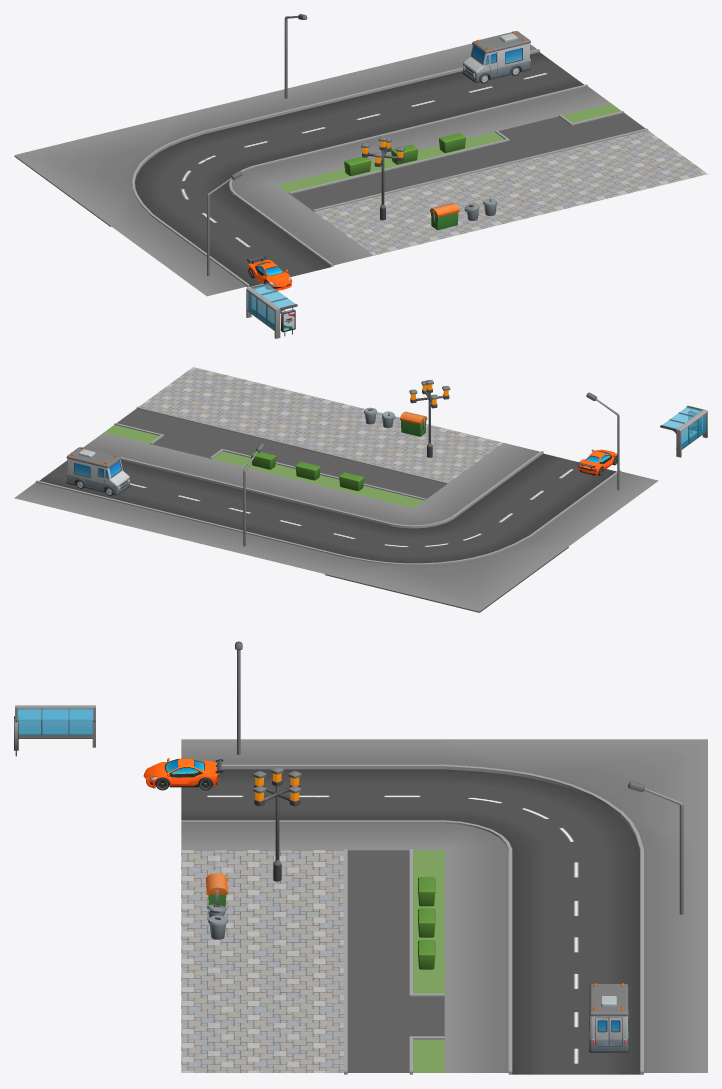
The model's file is south-west.gltf.
3 renders of one model, top to bottom at view 1: azimuth 30°, elevation 25°; view 2: azimuth 150°, elevation 25°; view 3: azimuth 270°, elevation 25°, orthographic. The views are drawn at different scales.
Parts seen in each view (by area): view 1: road_013.018, Set_B_Tiles_04.025, road_009.239, road_009.238, Set_B_Tiles_05.010, road_009.240, Van.004, Bus_Stop_02.052, Spotlight_02.111, Car_13.003, Trash_Can_05.036; view 2: road_013.018, road_009.239, road_009.238, Set_B_Tiles_04.025, Set_B_Tiles_05.010, road_009.240, Van.004, Bus_Stop_02.052, Spotlight_02.111, Car_13.003, Trash_Can_05.036; view 3: Set_B_Tiles_04.025, road_009.239, road_013.018, road_009.238, Set_B_Tiles_05.010, road_009.240, Bus_Stop_02.052, Van.004, Car_13.003, Spotlight_02.111, Spotlight_01.106.
Boxes of the visible parts, bbox=[...] form: road_013.018: bbox=[14, 114, 276, 226]; Set_B_Tiles_04.025: bbox=[454, 103, 707, 214]; road_009.239: bbox=[181, 74, 439, 184]; road_009.238: bbox=[110, 185, 373, 296]; Set_B_Tiles_05.010: bbox=[278, 145, 540, 255]; road_009.240: bbox=[348, 43, 611, 139]; Van.004: bbox=[462, 31, 530, 82]; Bus_Stop_02.052: bbox=[246, 283, 297, 338]; Spotlight_02.111: bbox=[361, 136, 404, 220]; Car_13.003: bbox=[248, 259, 292, 290]; Trash_Can_05.036: bbox=[430, 203, 459, 230]; road_013.018: bbox=[325, 508, 568, 612]; road_009.239: bbox=[169, 470, 413, 573]; road_009.238: bbox=[414, 443, 658, 545]; Set_B_Tiles_04.025: bbox=[104, 367, 347, 470]; Set_B_Tiles_05.010: bbox=[259, 405, 503, 508]; road_009.240: bbox=[14, 432, 258, 535]; Van.004: bbox=[66, 447, 130, 495]; Bus_Stop_02.052: bbox=[660, 405, 707, 457]; Spotlight_02.111: bbox=[409, 380, 450, 457]; Car_13.003: bbox=[578, 449, 617, 475]; Trash_Can_05.036: bbox=[400, 411, 427, 436]; Set_B_Tiles_04.025: bbox=[181, 960, 444, 1074]; road_009.239: bbox=[444, 849, 707, 963]; road_013.018: bbox=[444, 739, 707, 851]; road_009.238: bbox=[181, 739, 444, 850]; Set_B_Tiles_05.010: bbox=[181, 849, 444, 961]; road_009.240: bbox=[444, 960, 707, 1074]; Bus_Stop_02.052: bbox=[14, 705, 95, 756]; Van.004: bbox=[589, 983, 629, 1052]; Car_13.003: bbox=[143, 758, 219, 788]; Spotlight_02.111: bbox=[253, 767, 301, 881]; Spotlight_01.106: bbox=[628, 781, 683, 914].
Bounding box in the file's own units: 45 × 8.4 × 39.53.
12 materials, 10 textured.
